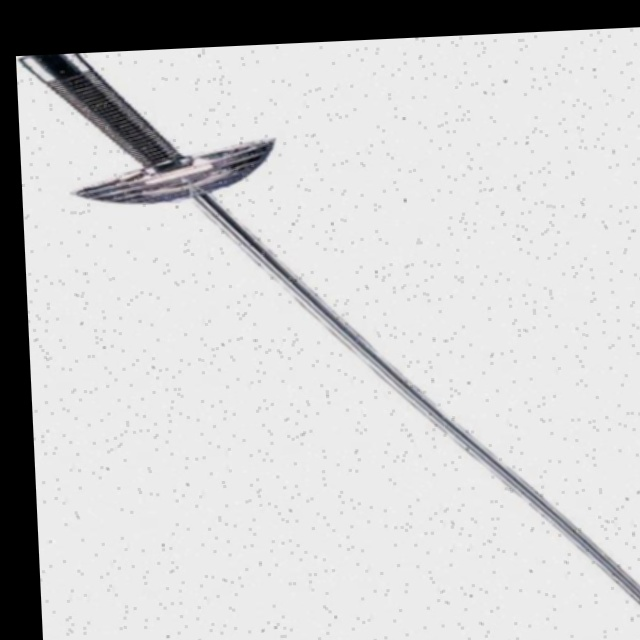Sharp-Object: (99, 106, 640, 640)
